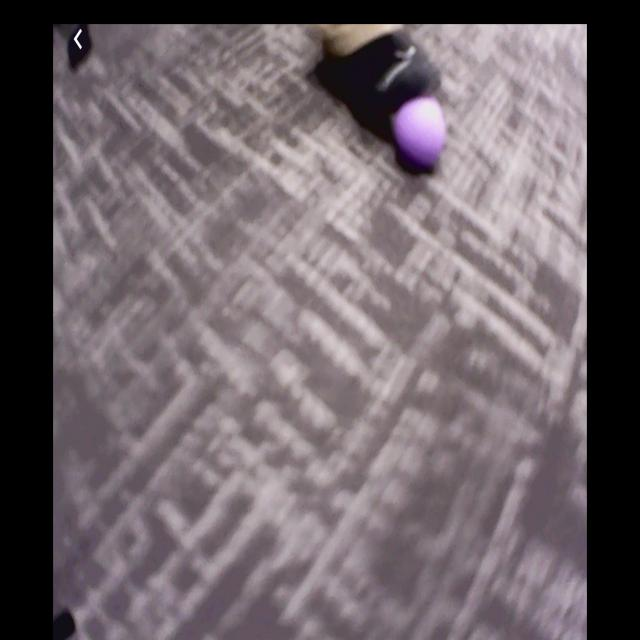ball: (394, 96, 446, 167)
